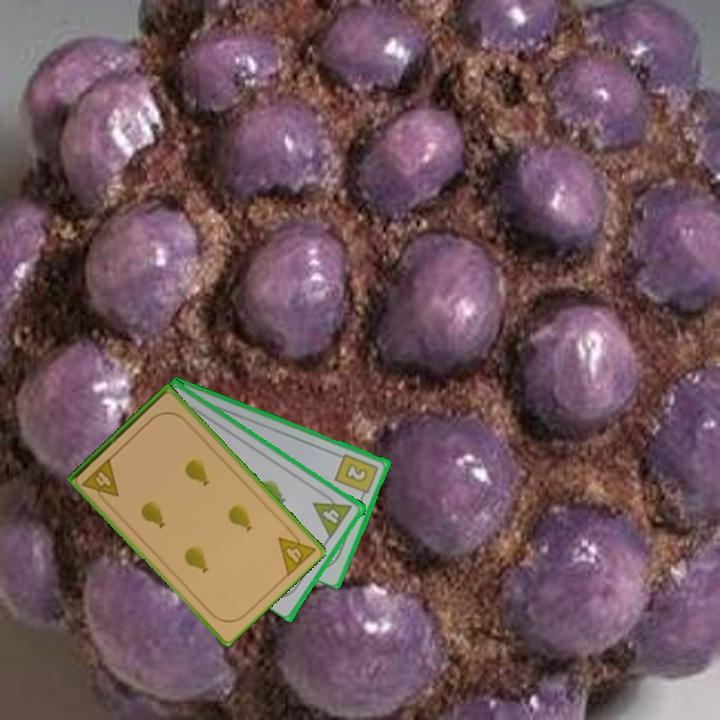2b: (332, 450, 382, 501)
4p: (274, 523, 318, 579), (310, 488, 355, 540), (79, 454, 122, 507)
